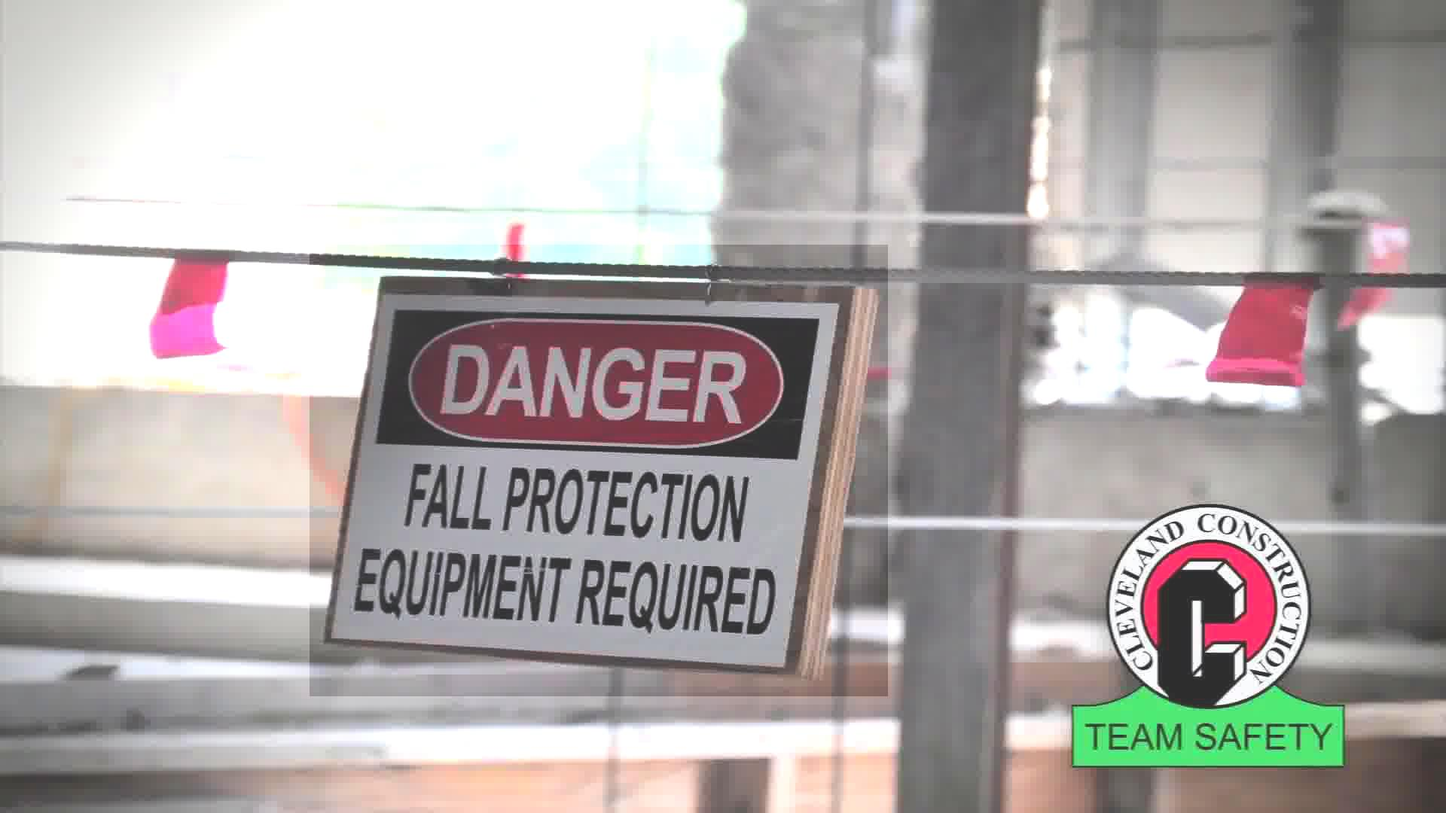safety_signage: (310, 245, 888, 696)
